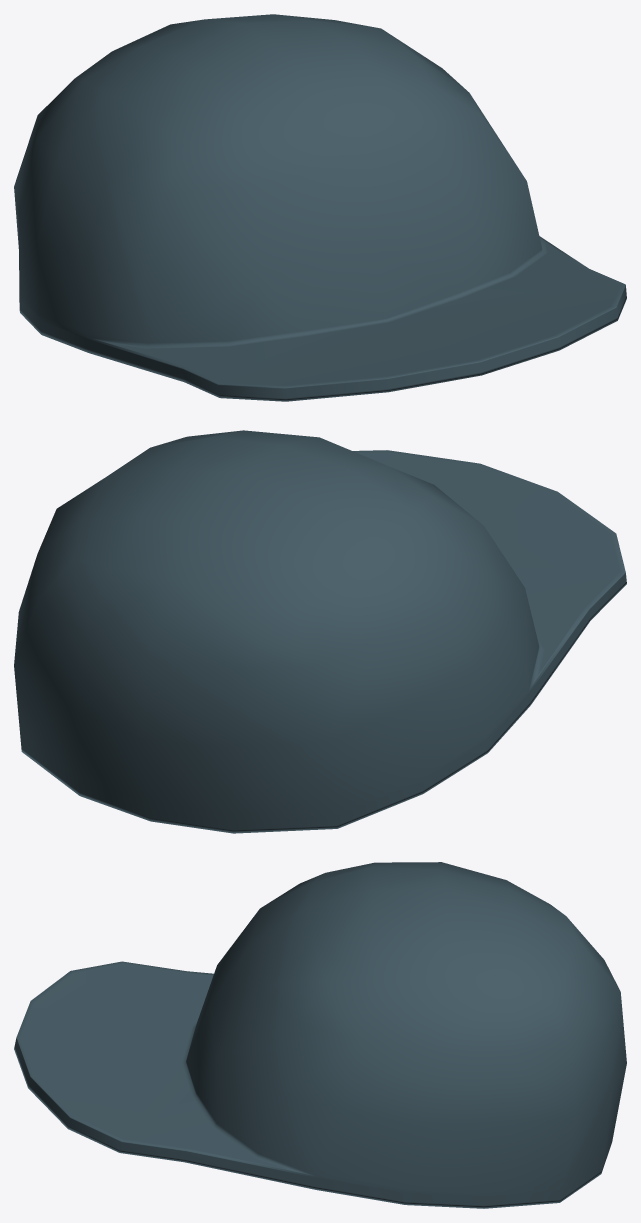
File: Hat_088.glb
3 views of the same model, one above another, from view 1: azimuth 30°, elevation 25°; view 2: azimuth 150°, elevation 25°; view 3: azimuth 270°, elevation 25° (orthographic). The views are drawn at different scales.
Parts seen in each view (by area): view 1: Hat_088; view 2: Hat_088; view 3: Hat_088.
Boxes of the visible parts, x1,y1,x2,y2 form: Hat_088: (14,14,626,401); Hat_088: (14,430,626,833); Hat_088: (14,862,626,1208).
Size of the model in its own units: 0.472 by 0.2829 by 0.6212.
1 material, 1 textured.
